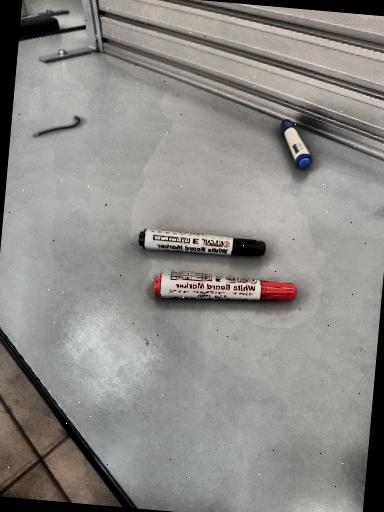marcador azul: (281, 120, 312, 169)
marcador negro: (138, 229, 265, 256)
marcador rojo: (153, 271, 296, 300)
